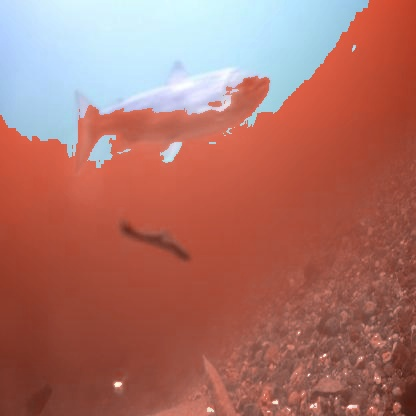salmon: (70, 51, 272, 183)
